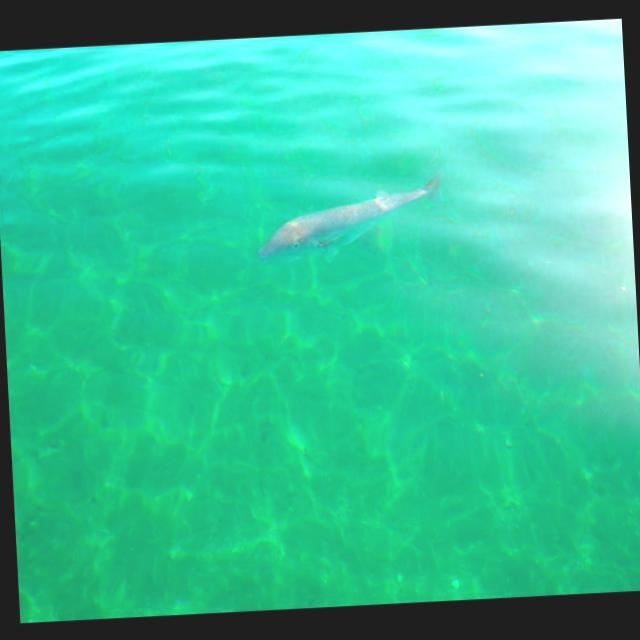Balon Baligi: (252, 165, 450, 264)
